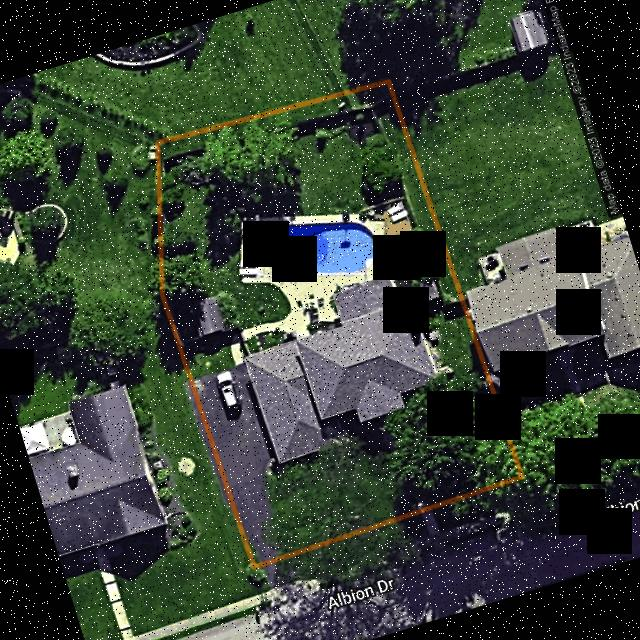Driveway: (195, 365, 305, 564)
Extra Driveway: (257, 552, 311, 588)
Extra Lawn: (307, 513, 427, 578), (318, 545, 433, 592), (431, 479, 532, 532), (444, 515, 538, 548)
Extra Sidewalk: (421, 510, 438, 536)
House: (244, 275, 435, 462)
Other: (238, 201, 426, 338), (197, 297, 225, 336), (418, 279, 439, 302), (415, 314, 428, 329), (437, 365, 452, 374), (428, 329, 438, 340)
Sidewalk: (377, 413, 428, 509), (230, 311, 298, 367)
